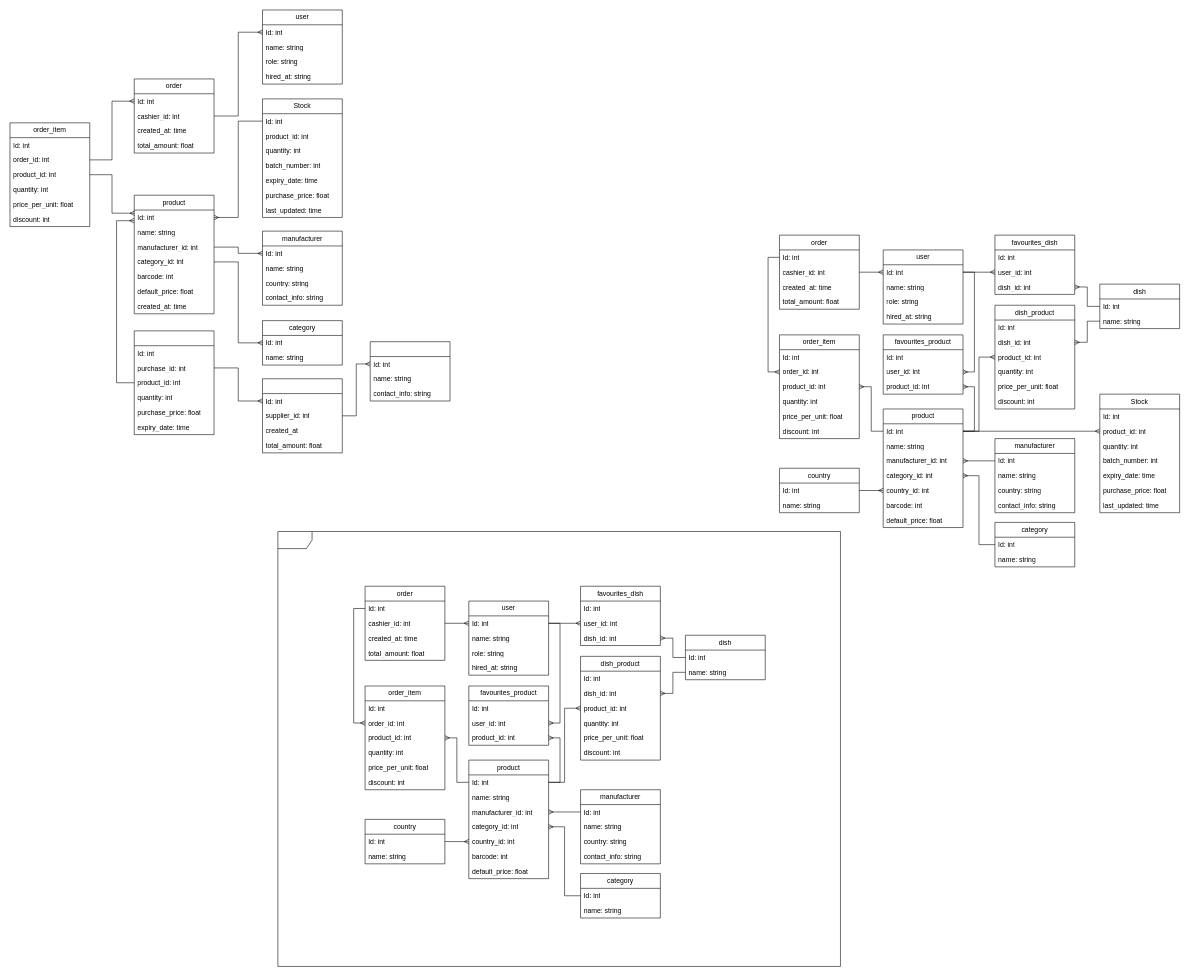
Some shapes in this 1190 by 976 pixel diagram are drawn without their labels. Each missing label, with the box of its shape:
Actual: (277, 531, 840, 966)
purchase: (262, 378, 342, 453)
purchase_item: (134, 330, 214, 435)
supplier: (370, 341, 450, 401)
